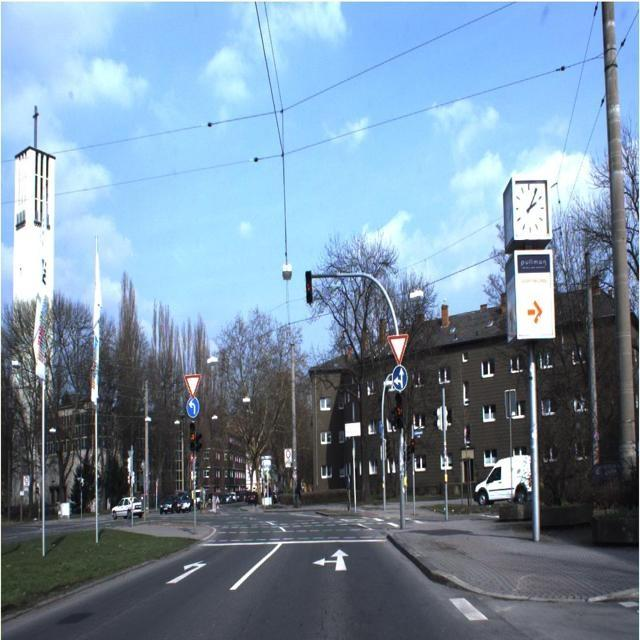prio_give_way: (387, 334, 409, 366), (184, 373, 201, 400)
